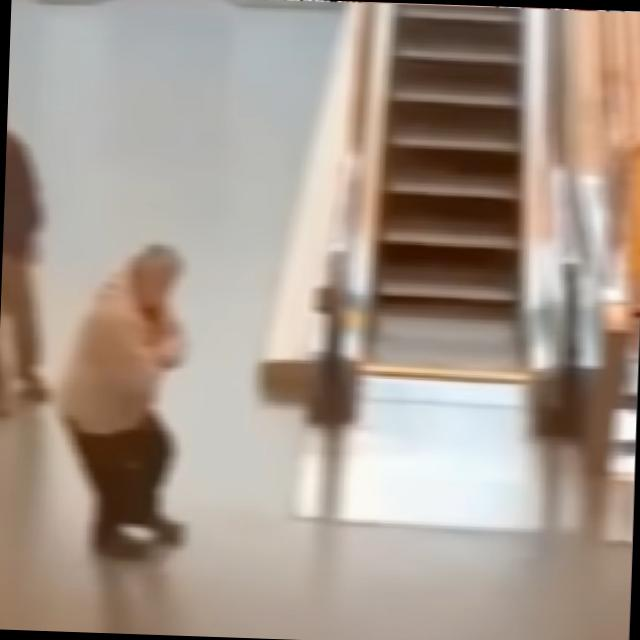person: (47, 238, 196, 560), (0, 124, 61, 417)
